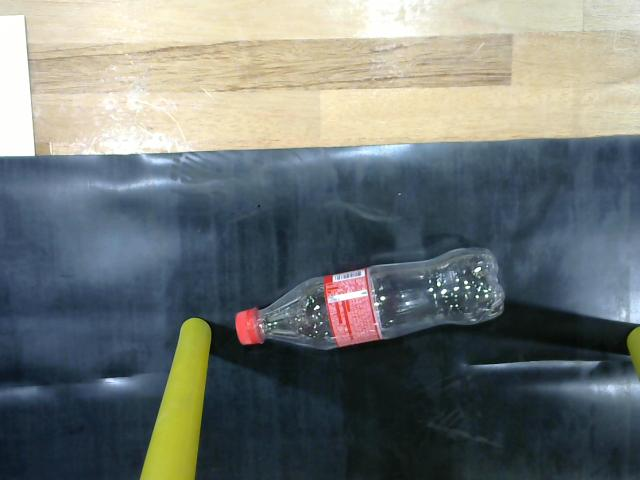bottle: (234, 239, 512, 357)
